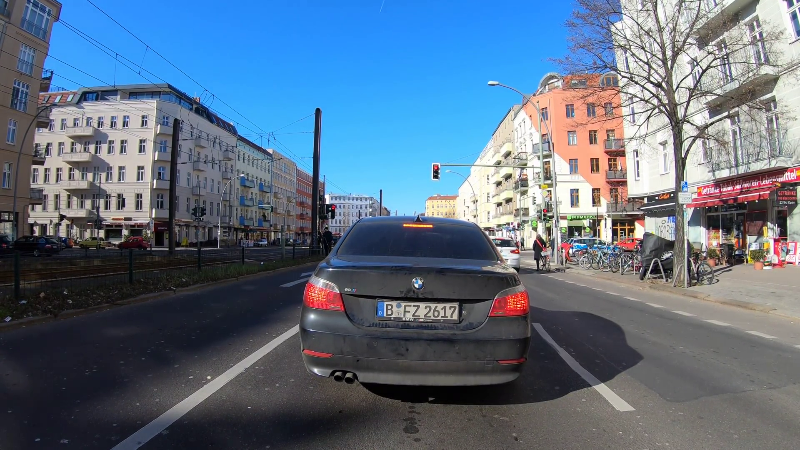Plate: (375, 299, 460, 323)
